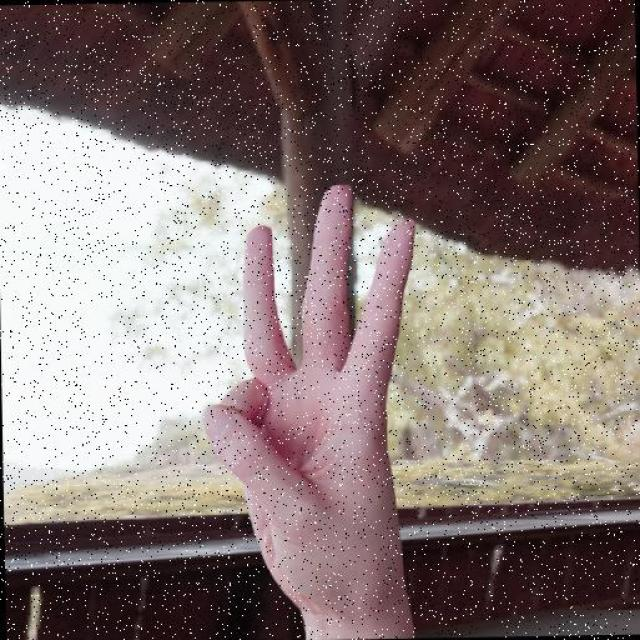W: (194, 182, 429, 627)
